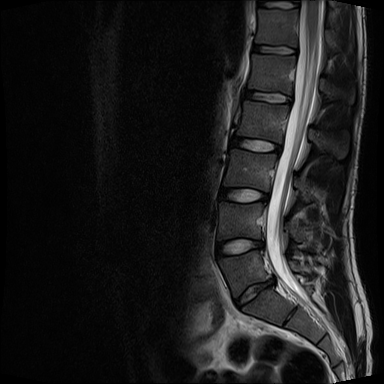Lumbar Disc Bulge (LDB): (230, 270, 282, 314), (211, 235, 270, 263)
Normal IVD: (227, 132, 284, 156), (241, 84, 295, 107), (213, 185, 272, 205), (247, 43, 299, 57)
Spinal Stenosis (SS): (262, 268, 281, 293), (251, 233, 269, 258)
